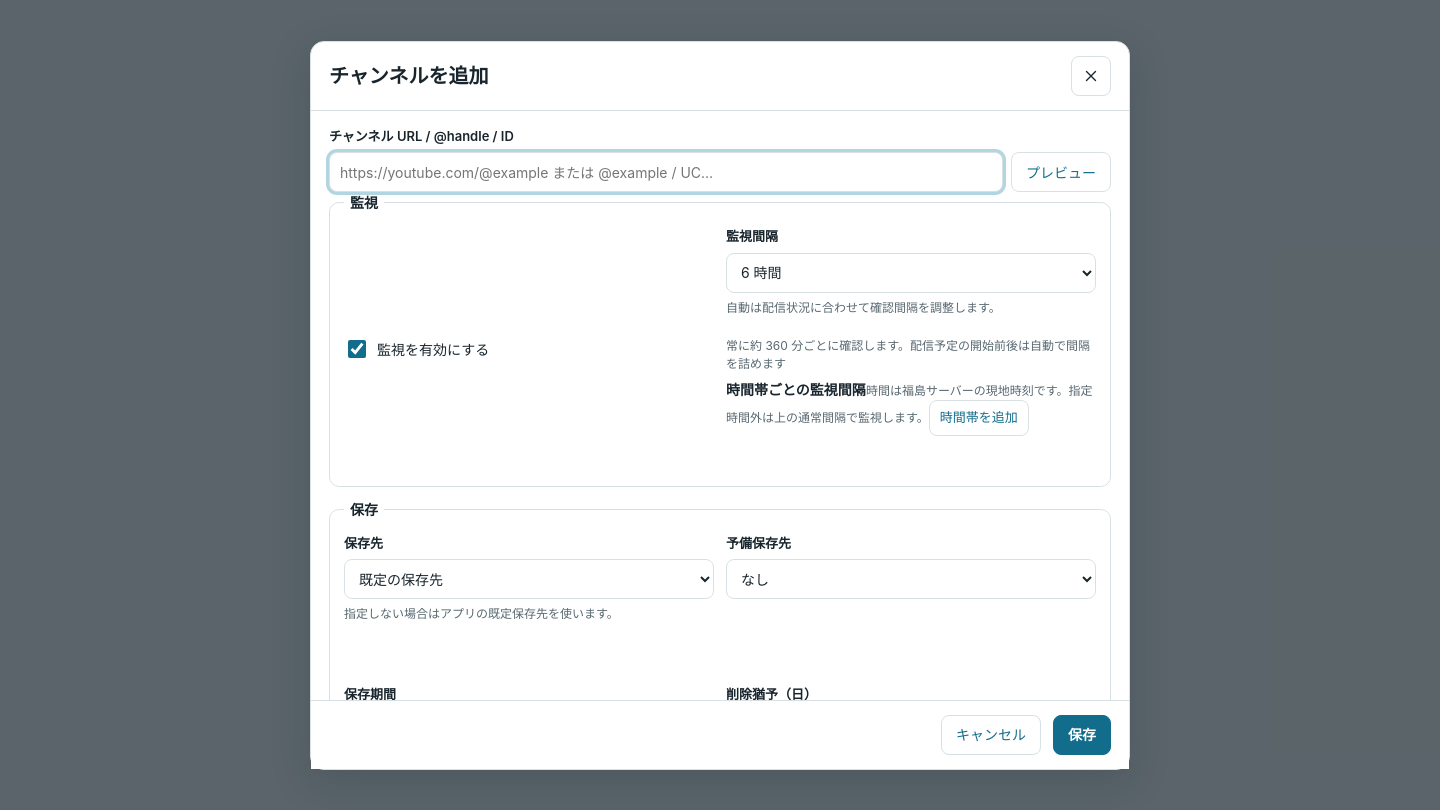
ChannelFormDialog › shows API field errors directly under the URL input
Type "bad" into the field with id "channel-url" at (666, 172), box [329, 152, 1003, 192]
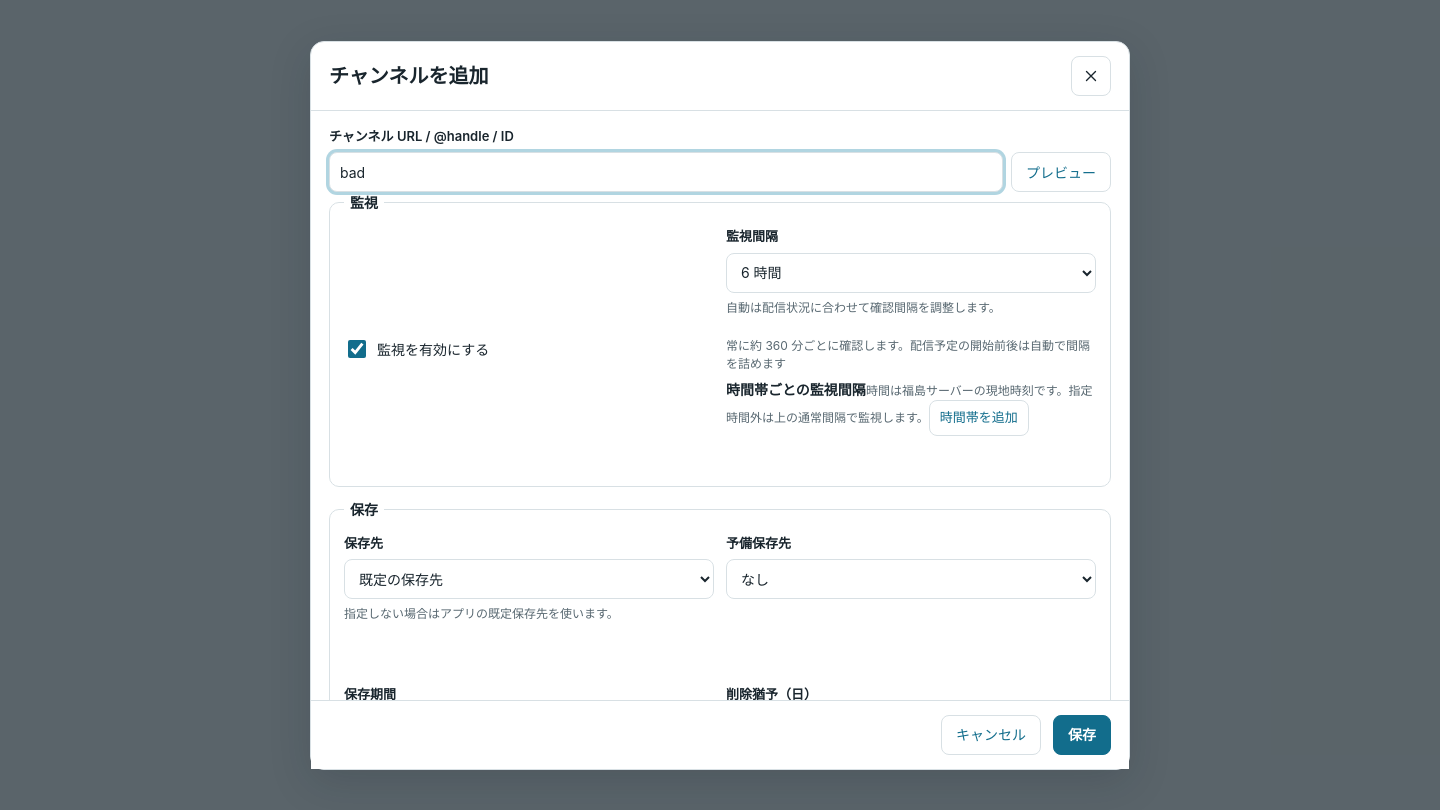
Submit the dialog, box [310, 40, 1130, 770]
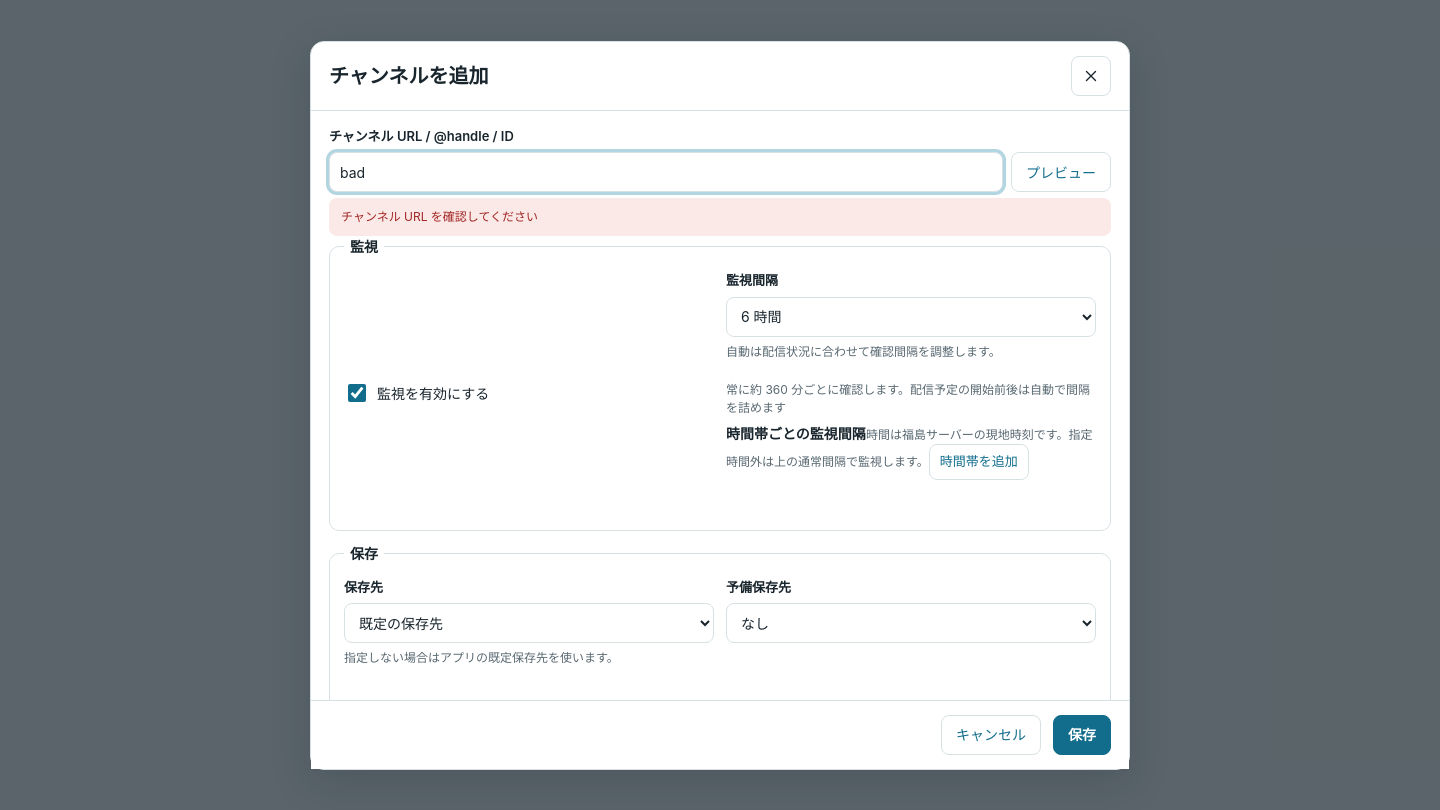
Now the text "チャンネル URL を確認してください" is shown, box [329, 198, 1111, 236]
